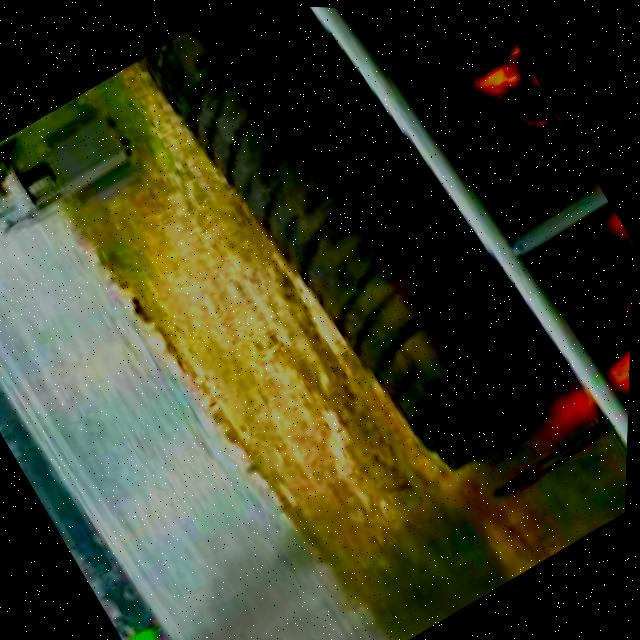Fire: (442, 8, 573, 161), (546, 225, 635, 398)
Smoke: (148, 400, 567, 640)
